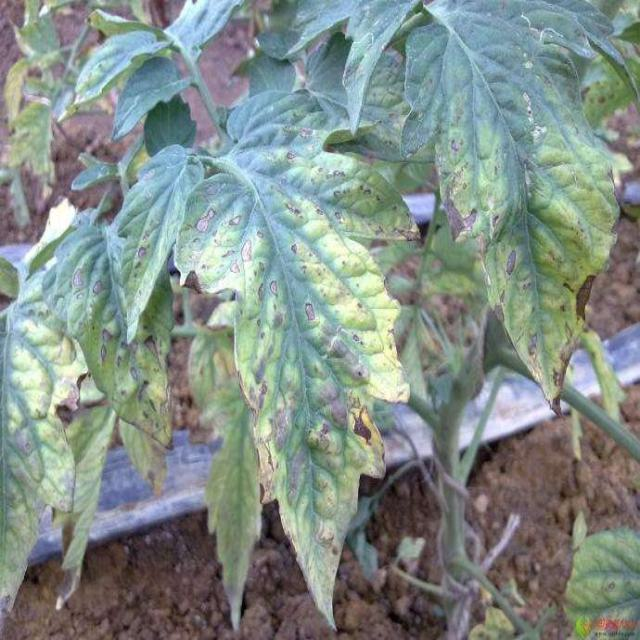Early_blight: (182, 152, 421, 634), (5, 321, 90, 516), (525, 266, 599, 419), (92, 330, 176, 447), (439, 162, 478, 246), (485, 242, 519, 338)
